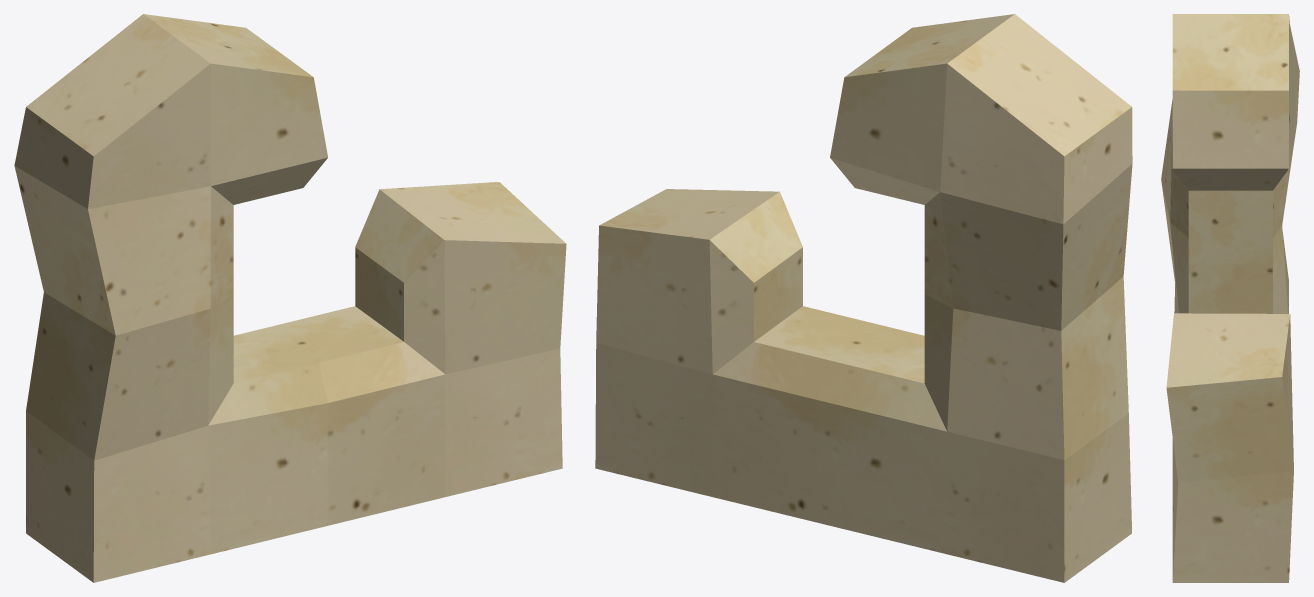
Rendered from ruines_vol3.fbx.
3 renders of one model, left to right at view 1: azimuth 30°, elevation 25°; view 2: azimuth 150°, elevation 25°; view 3: azimuth 270°, elevation 25°, orthographic. The views are drawn at different scales.
Parts seen in each view (by area): view 1: Cube.002; view 2: Cube.002; view 3: Cube.002.
Part boxes in pixels (x1,y1,x2,y2): Cube.002: (14,14,566,582); Cube.002: (595,14,1132,582); Cube.002: (1161,14,1299,582).
Size of the model in its own units: 119 by 405 by 400.
1 material, 1 textured.
